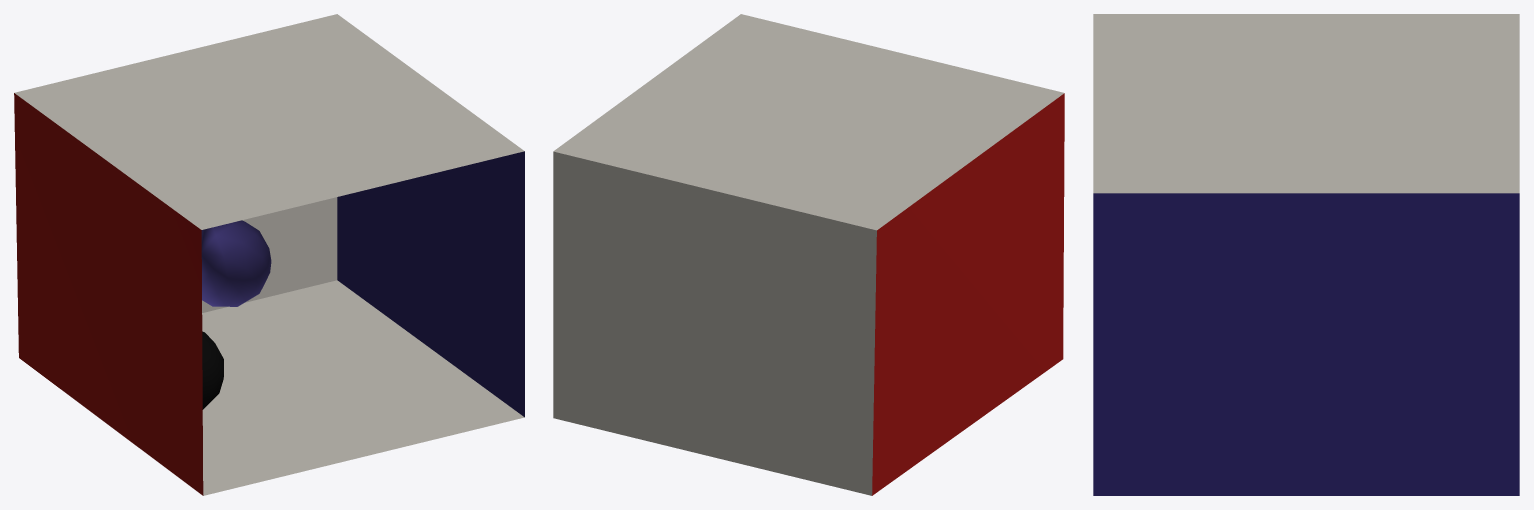
The model's file is CornellBox-Sphere-290.obj.
The picture shows the model from 3 angles, left to right: view 1: azimuth 30°, elevation 25°; view 2: azimuth 150°, elevation 25°; view 3: azimuth 270°, elevation 25°; orthographic projection. The views are drawn at different scales.
Parts seen in each view (by area): view 1: ceiling, leftWall, floor, rightWall, backWall, leftSphere, rightSphere; view 2: backWall, ceiling, leftWall; view 3: rightWall, ceiling.
Boxes of the visible parts, <box> form: ceiling: <box>14,14,524,229</box>; leftWall: <box>14,93,203,495</box>; floor: <box>202,280,524,495</box>; rightWall: <box>337,151,524,417</box>; backWall: <box>202,197,337,312</box>; leftSphere: <box>201,220,271,306</box>; rightSphere: <box>202,331,223,409</box>; backWall: <box>553,151,876,495</box>; ceiling: <box>553,14,1064,230</box>; leftWall: <box>872,93,1064,495</box>; rightWall: <box>1093,193,1519,495</box>; ceiling: <box>1093,14,1519,193</box>.
Bounding box in the file's own units: 2.02 × 1.59 × 2.03.
